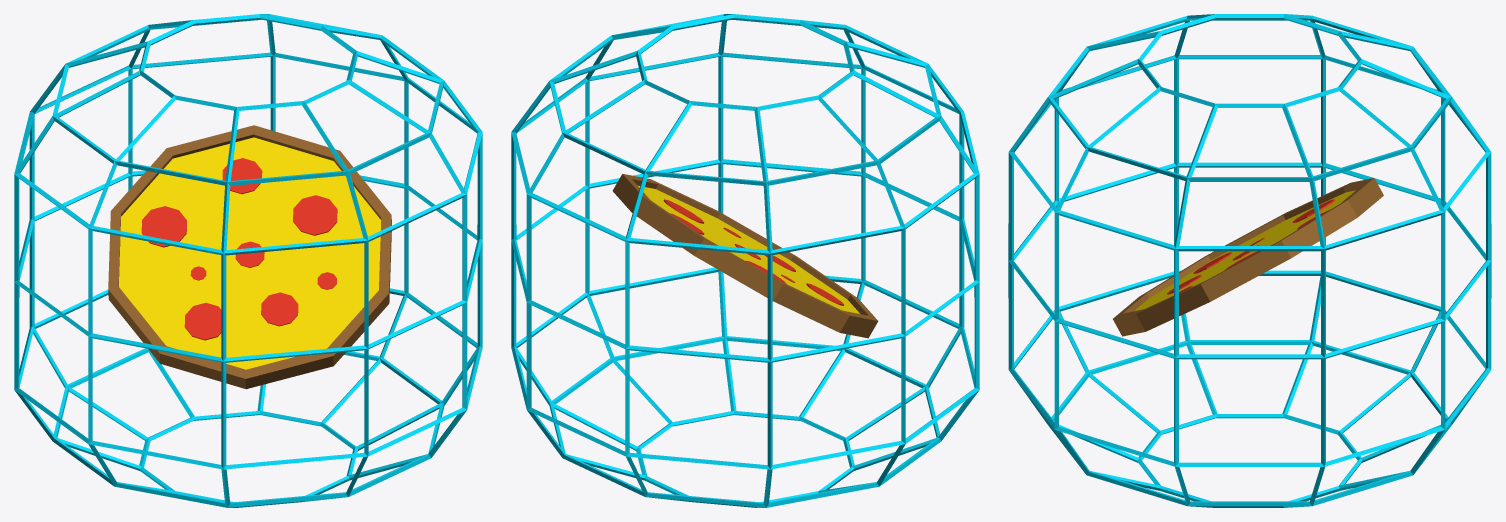
Rendered from PizzaOrb_Prop.fbx.
The picture shows the model from 3 angles, left to right: view 1: azimuth 30°, elevation 25°; view 2: azimuth 150°, elevation 25°; view 3: azimuth 270°, elevation 25°; orthographic projection.
Visible parts, largest first — view 1: Cylinder.009, Cylinder.018, Cylinder.012, Cylinder.016, Cylinder.017, Cylinder.013, Cylinder.011; view 2: Cylinder.018, Cylinder.009; view 3: Cylinder.018, Cylinder.009.
Boxes of the visible parts, x1,y1,x2,y2 form: Cylinder.009: (108,125,391,389); Cylinder.018: (14,14,482,507); Cylinder.012: (293,195,337,235); Cylinder.016: (141,206,186,247); Cylinder.017: (184,302,221,340); Cylinder.013: (261,292,298,326); Cylinder.011: (222,158,262,194); Cylinder.018: (511,14,979,507); Cylinder.009: (612,173,878,338); Cylinder.018: (1008,14,1491,507); Cylinder.009: (1113,178,1383,336).
Bounding box in the file's own units: 192 × 187 × 202.
